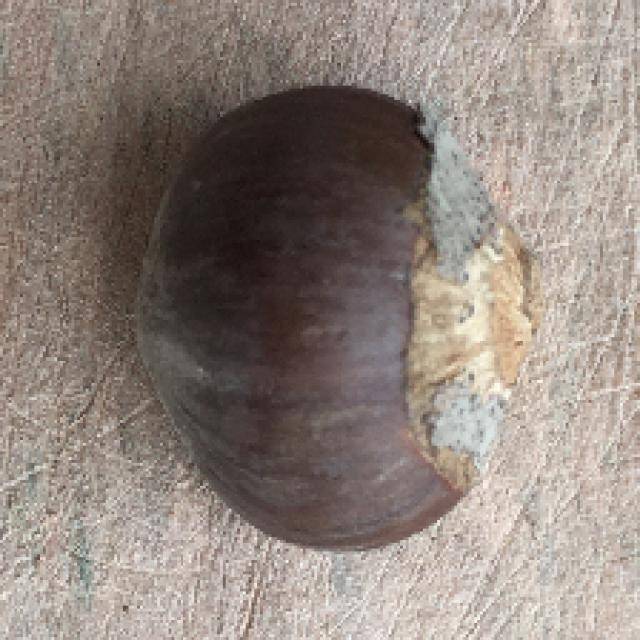damagedHazelnut: (143, 86, 537, 552)
